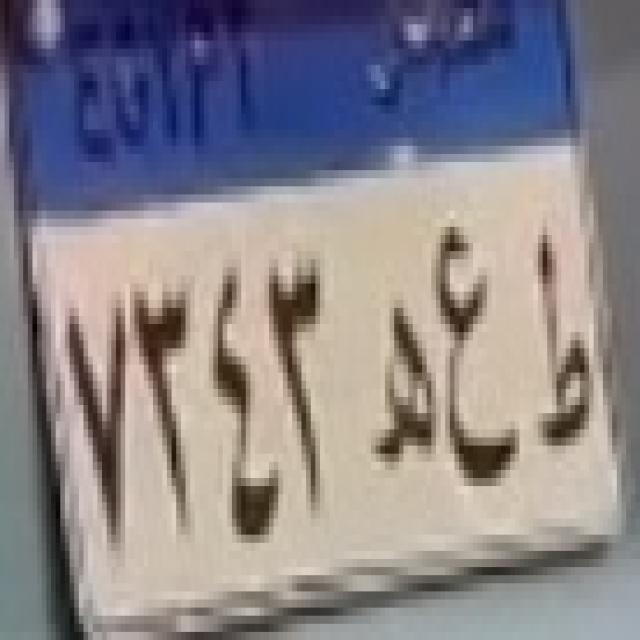3: (269, 244, 334, 531), (139, 268, 204, 550)
4: (202, 259, 274, 546)
7: (65, 294, 142, 548)
Een: (424, 246, 528, 498)
Heeh: (367, 284, 442, 490)
Taa: (520, 220, 600, 472)
